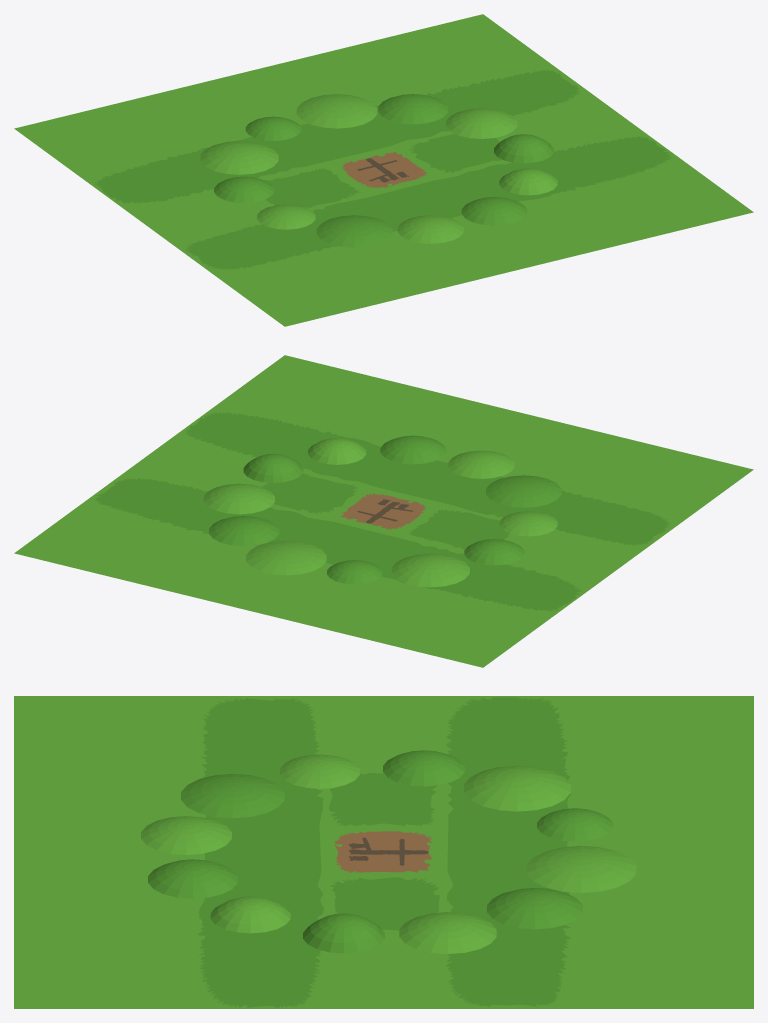
The model's file is ground_lobby.glb.
3 renders of one model, top to bottom at view 1: azimuth 30°, elevation 25°; view 2: azimuth 150°, elevation 25°; view 3: azimuth 270°, elevation 25°, orthographic. The views are drawn at different scales.
Parts seen in each view (by area): view 1: Grass__62AC3A, Grass__549C32, Ground__967048; view 2: Grass__62AC3A, Grass__549C32, Ground__967048; view 3: Grass__62AC3A, Grass__549C32, Ground__967048, Mud__60503C.
Boxes of the visible parts, bbox=[...] form: Grass__62AC3A: bbox=[14, 14, 753, 326]; Grass__549C32: bbox=[94, 70, 671, 269]; Ground__967048: bbox=[341, 152, 427, 187]; Grass__62AC3A: bbox=[14, 355, 753, 667]; Grass__549C32: bbox=[94, 412, 670, 611]; Ground__967048: bbox=[340, 493, 425, 529]; Grass__62AC3A: bbox=[14, 696, 753, 1008]; Grass__549C32: bbox=[148, 697, 612, 1007]; Ground__967048: bbox=[334, 831, 432, 872]; Mud__60503C: bbox=[348, 837, 428, 865].
Bounding box in the file's own units: 900 × 23.99 × 900.
